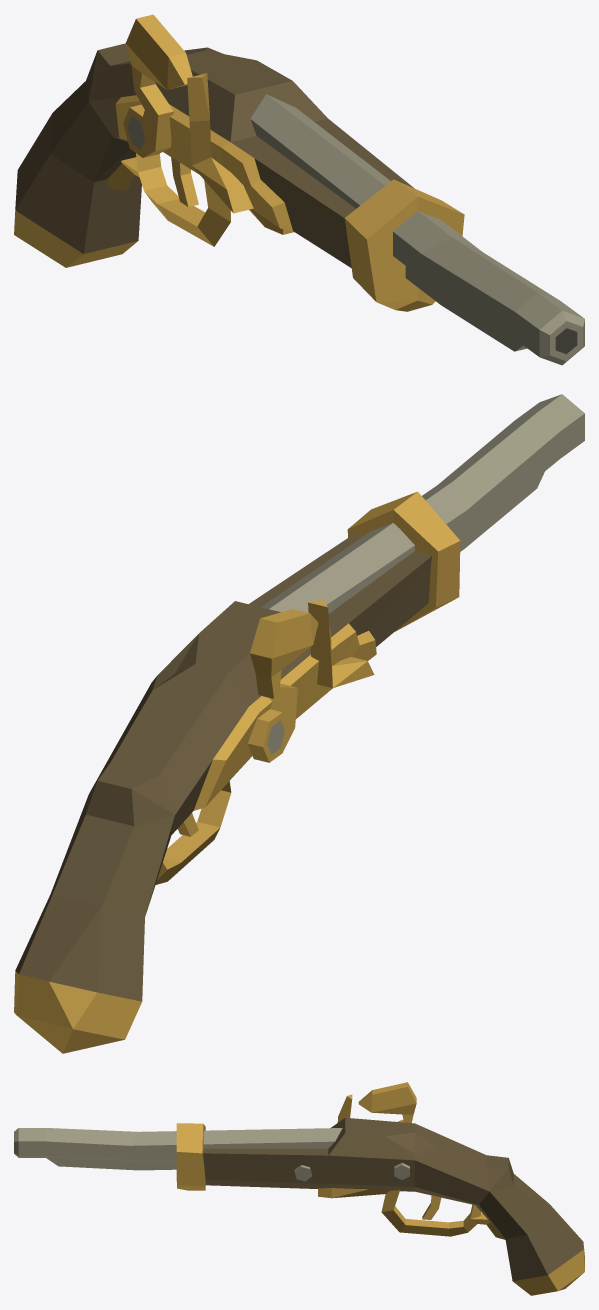
File: Pistol_1.fbx
3 views of the same model, one above another, from view 1: azimuth 30°, elevation 25°; view 2: azimuth 150°, elevation 25°; view 3: azimuth 270°, elevation 25° (orthographic). The views are drawn at different scales.
Parts seen in each view (by area): view 1: Pistol_1; view 2: Pistol_1; view 3: Pistol_1.
Boxes of the visible parts, x1,y1,x2,y2 form: Pistol_1: [14, 14, 584, 365]; Pistol_1: [14, 394, 584, 1053]; Pistol_1: [14, 1082, 584, 1295].
Size of the model in its own units: 8.37 by 20.09 by 55.36.
